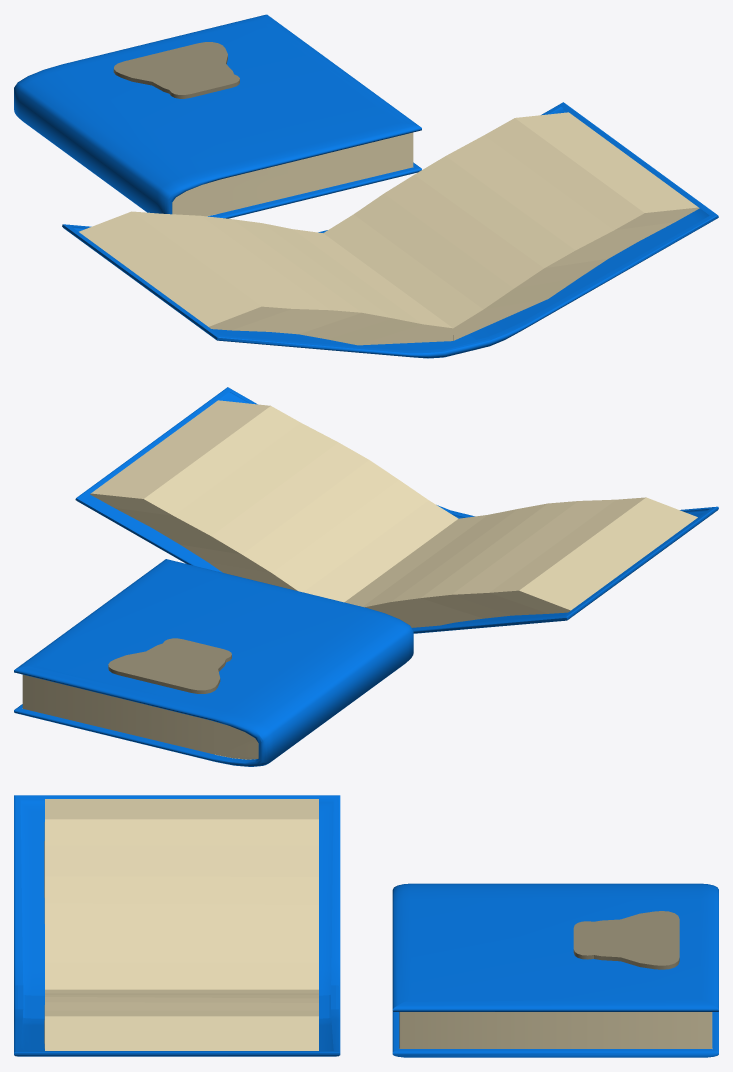
File: book.fbx
3 views of the same model, one above another, from view 1: azimuth 30°, elevation 25°; view 2: azimuth 150°, elevation 25°; view 3: azimuth 270°, elevation 25° (orthographic). The views are drawn at different scales.
Visible parts, largest first — view 1: Cube.005, Cube; view 2: Cube.005, Cube; view 3: Cube.005, Cube.
Part boxes in pixels (x1,y1,x2,y2): Cube.005: (62,102,718,358); Cube: (14,14,421,218); Cube.005: (75,387,718,633); Cube: (14,559,413,766); Cube.005: (14,795,340,1056); Cube: (392,883,718,1057).
Size of the model in its own units: 374 by 60.42 by 432.
